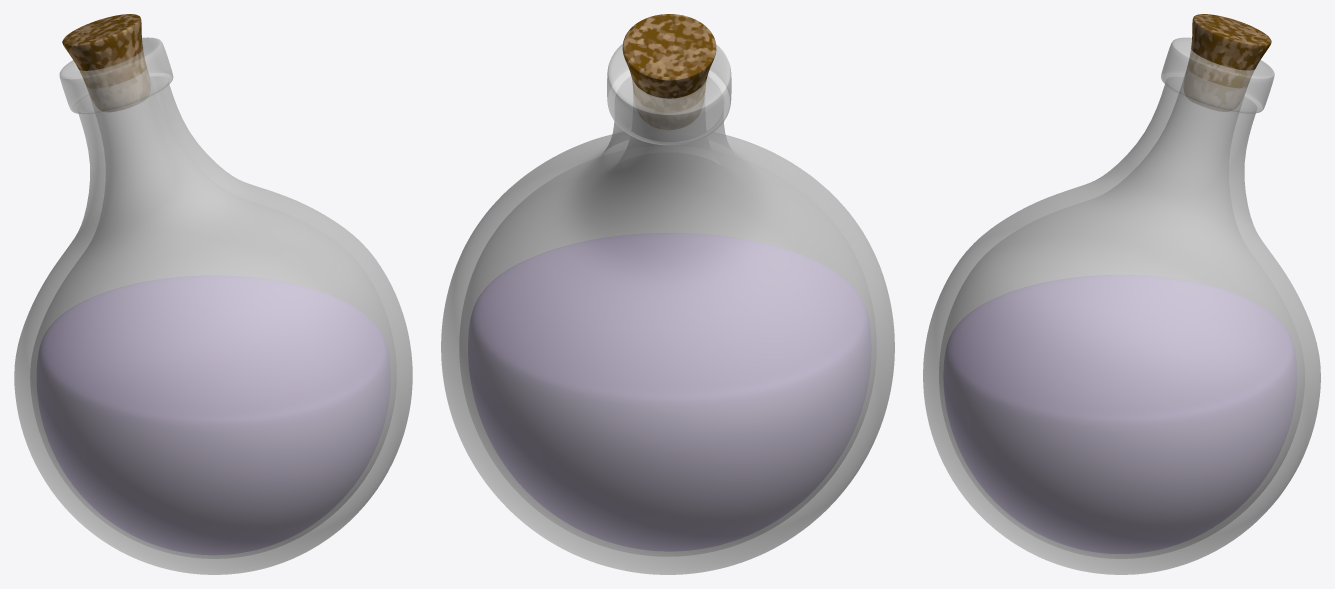
The model's file is mana.fbx.
3 views of the same model, side by side, from view 1: azimuth 30°, elevation 25°; view 2: azimuth 150°, elevation 25°; view 3: azimuth 270°, elevation 25° (orthographic). The views are drawn at different scales.
Visible parts, largest first — view 1: bottle; view 2: bottle; view 3: bottle.
Boxes of the visible parts, x1,y1,x2,y2 form: bottle: (14,14,412,574); bottle: (441,14,894,574); bottle: (923,14,1320,574).
Bounding box in the file's own units: 169 × 240 × 169.
Materials: 3 (1 with a texture image).
